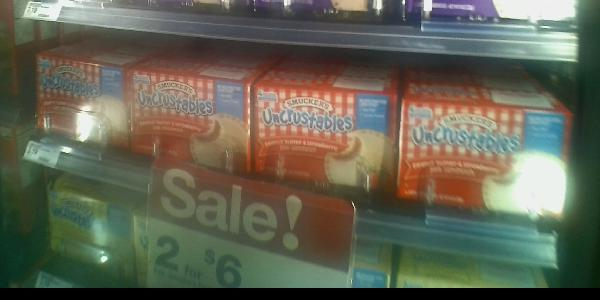icecream: (402, 69, 571, 233), (255, 61, 397, 223), (133, 50, 251, 186), (35, 37, 137, 160)
